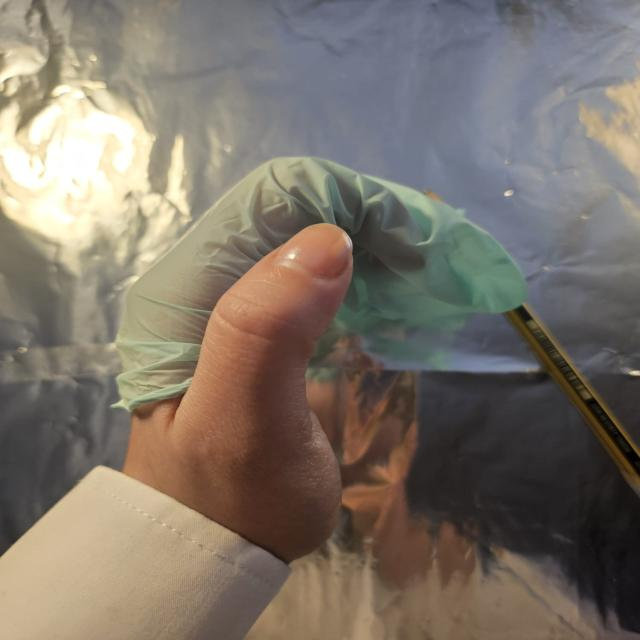glove_partial: (111, 155, 530, 561)
